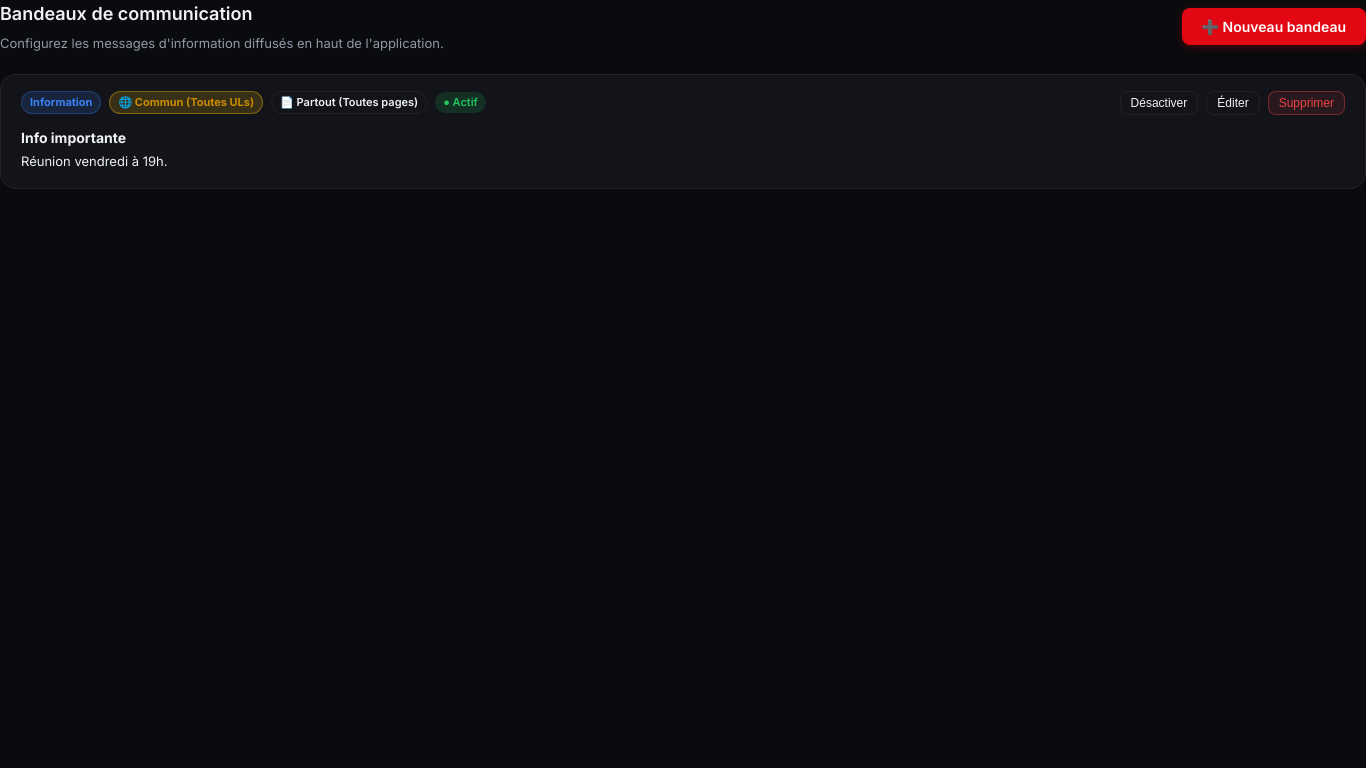
BannersTab › ouvre la modale de création avec les champs vides
expect the text "Info importante" is shown: met, box top-left (21, 129), bottom-right (126, 146)
Step 1. Click the button "➕ Nouveau bandeau" → (1274, 27), box top-left (1182, 8), bottom-right (1365, 45)
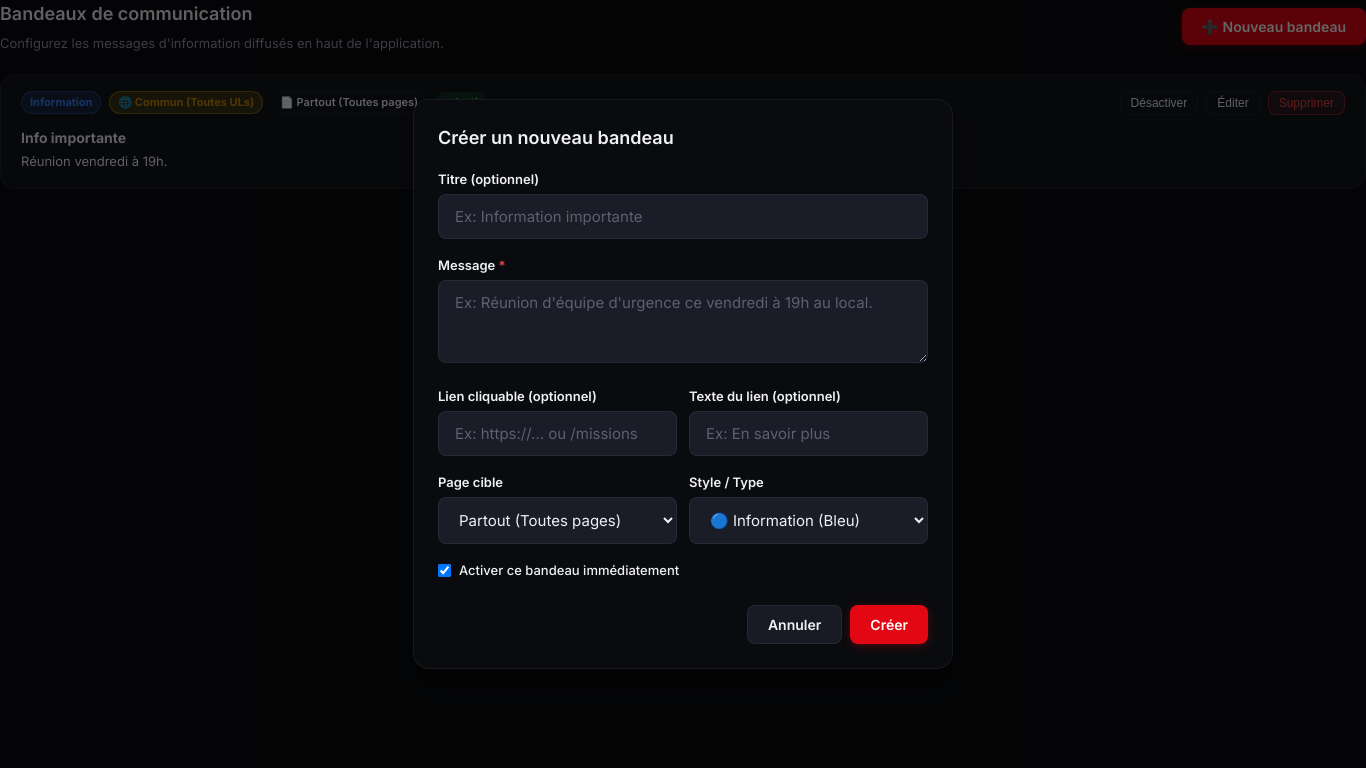
expect the heading "Créer un nouveau bandeau" is shown: met, box top-left (438, 127), bottom-right (674, 148)
expect the text box with placeholder "Ex: Réunion d'équipe d'urgence ce vendredi à 19h au local." is empty: met, box top-left (438, 280), bottom-right (928, 363)
